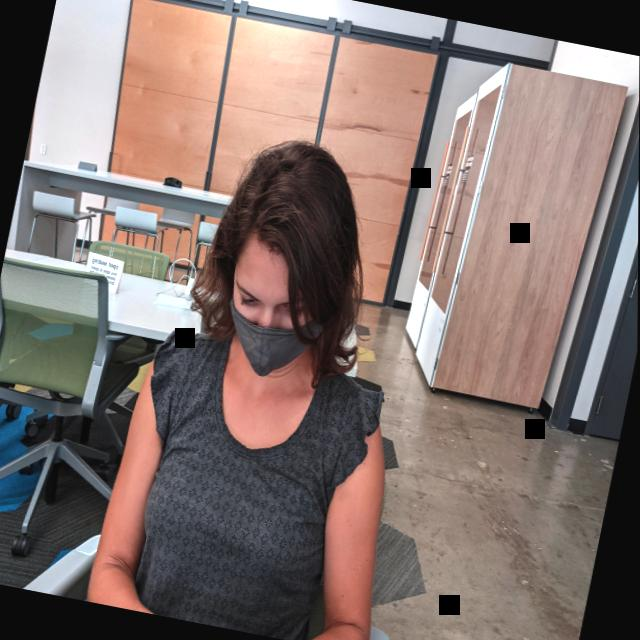Mask: (207, 203, 352, 392)
